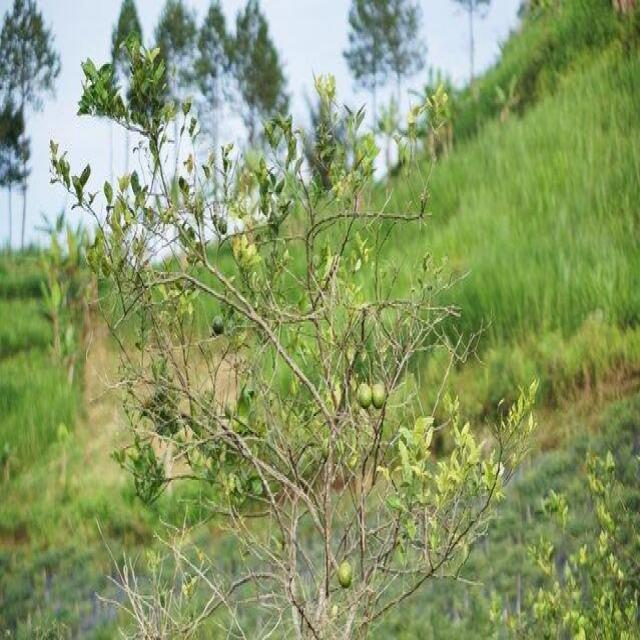Jeruk Belum Matang: (358, 384, 371, 411), (338, 562, 352, 586), (372, 384, 384, 409), (213, 316, 224, 334)
